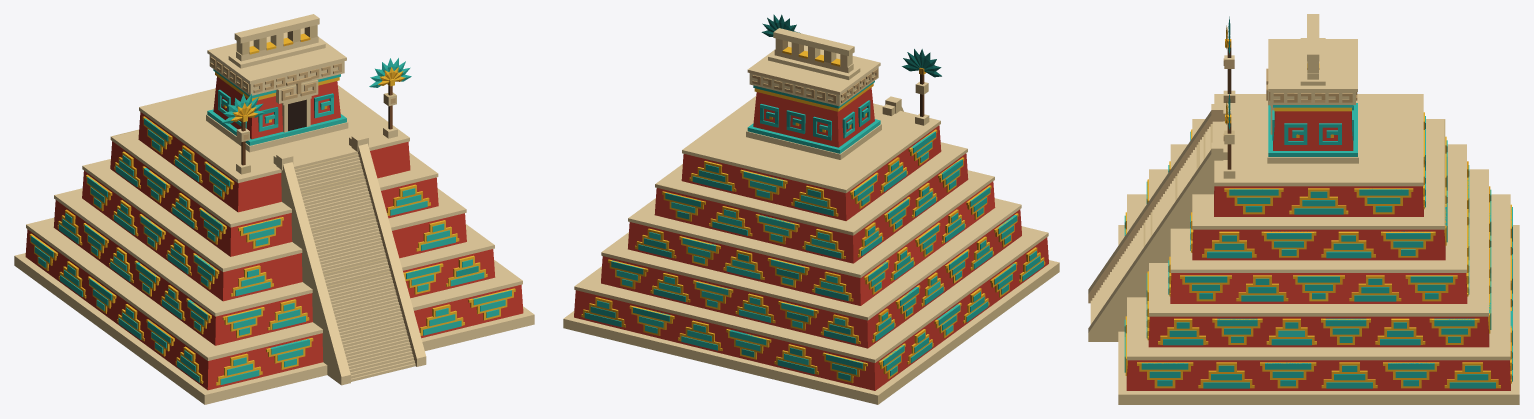
File: landmark.glb
3 renders of one model, left to right at view 1: azimuth 30°, elevation 25°; view 2: azimuth 150°, elevation 25°; view 3: azimuth 270°, elevation 25°, orthographic. The views are drawn at different scales.
Parts seen in each view (by area): view 1: ziggurat; view 2: ziggurat; view 3: ziggurat.
Part boxes in pixels (x1=…): ziggurat: x1=14, y1=14, x2=534, y2=404; ziggurat: x1=563, y1=14, x2=1059, y2=404; ziggurat: x1=1088, y1=14, x2=1519, y2=404.
Size of the model in its own units: 70 by 55 by 75.2.
1 material, 1 textured.
